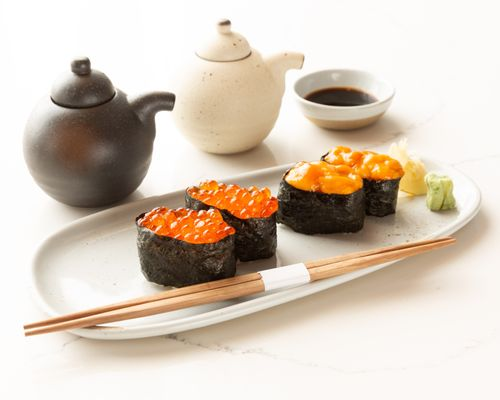sandwich: (25, 235, 458, 344)
sushi: (291, 68, 396, 131)
